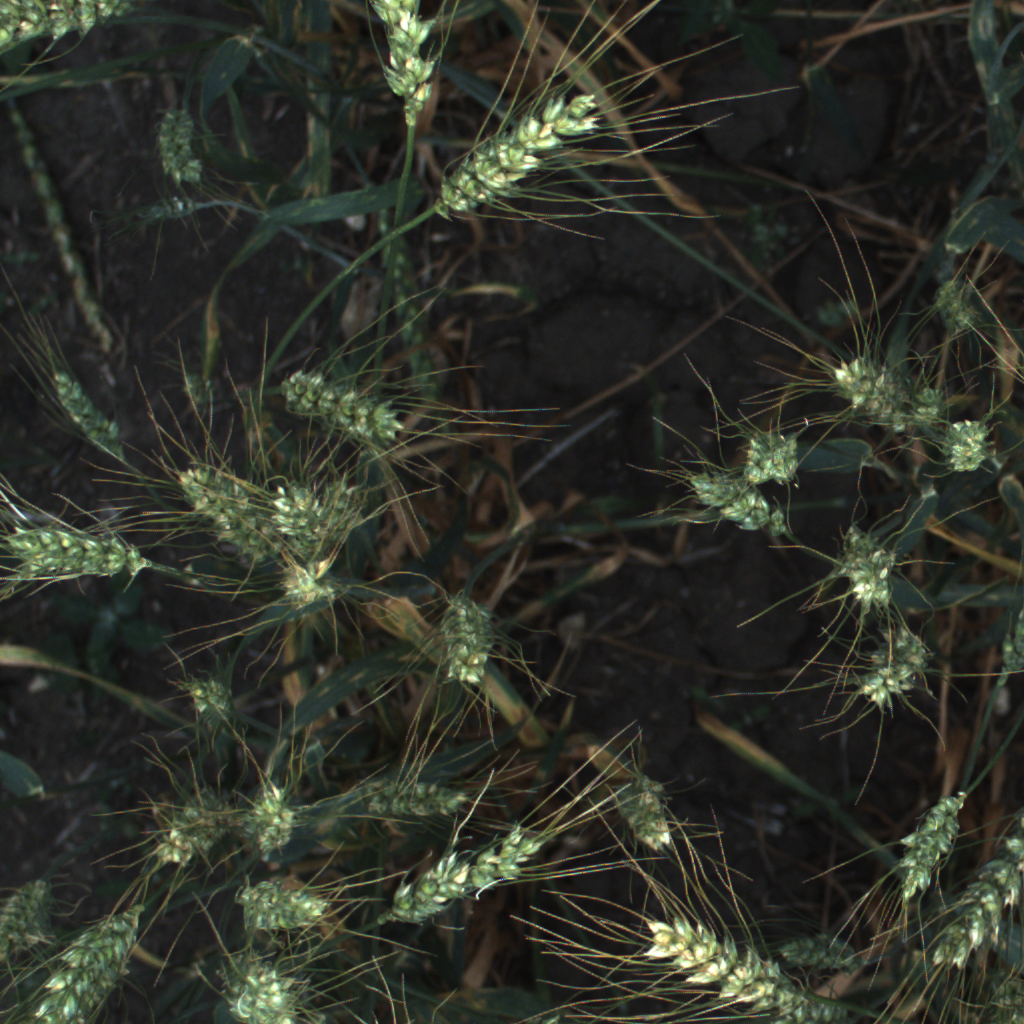wheat_head: (421, 80, 611, 227), (629, 902, 854, 1024), (370, 814, 561, 945), (924, 813, 1024, 982), (33, 905, 160, 1024), (875, 768, 974, 912), (165, 459, 291, 570), (670, 444, 800, 547), (832, 609, 945, 719), (2, 516, 154, 593), (38, 355, 136, 473), (274, 368, 412, 451), (361, 0, 442, 138), (714, 410, 810, 514), (593, 761, 689, 860), (828, 343, 931, 433), (429, 581, 505, 699), (828, 512, 904, 625), (0, 0, 130, 66), (231, 866, 342, 942), (265, 472, 343, 564), (340, 776, 483, 826), (0, 863, 55, 986), (223, 962, 327, 1024), (152, 95, 211, 200), (146, 811, 239, 869), (775, 929, 866, 983), (175, 663, 244, 728), (249, 780, 302, 861), (944, 412, 1005, 482), (926, 276, 988, 344), (992, 606, 1024, 696), (266, 566, 340, 601)
